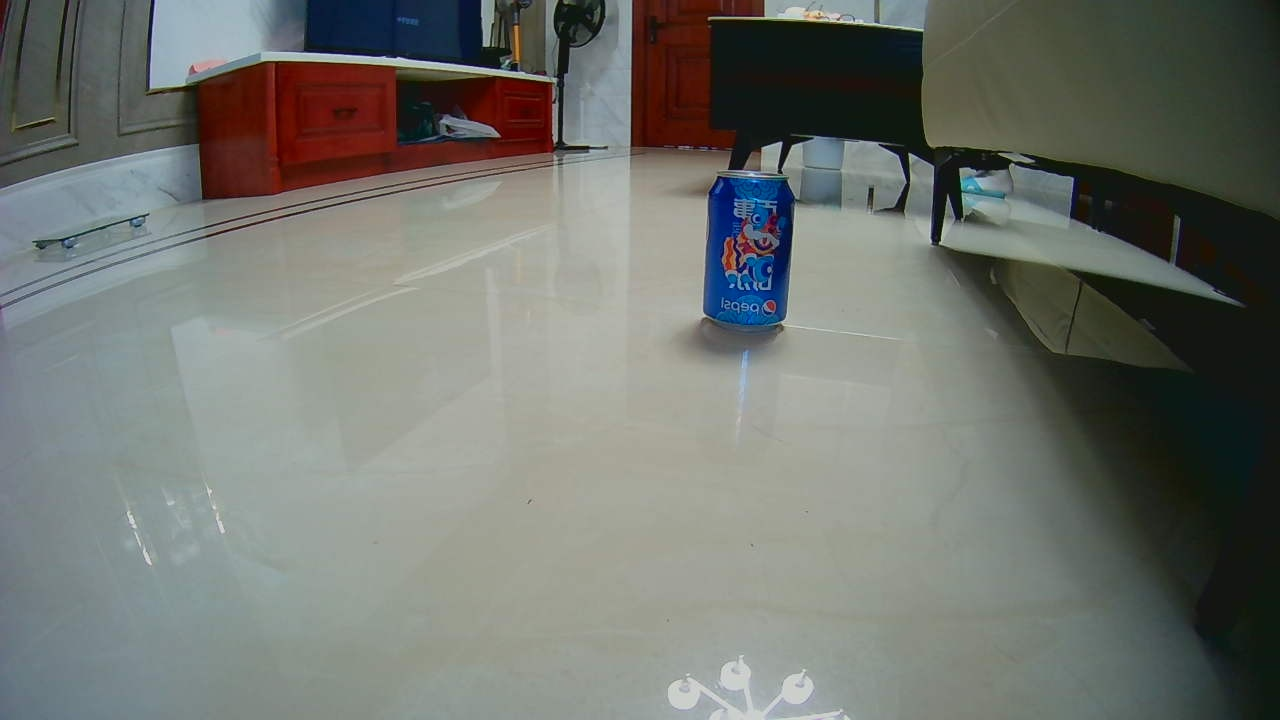pessi: (704, 167, 789, 334)
